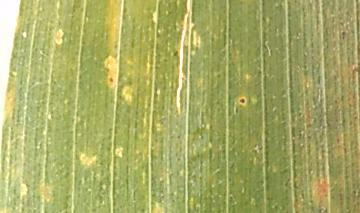tarspot: (236, 94, 248, 107)
